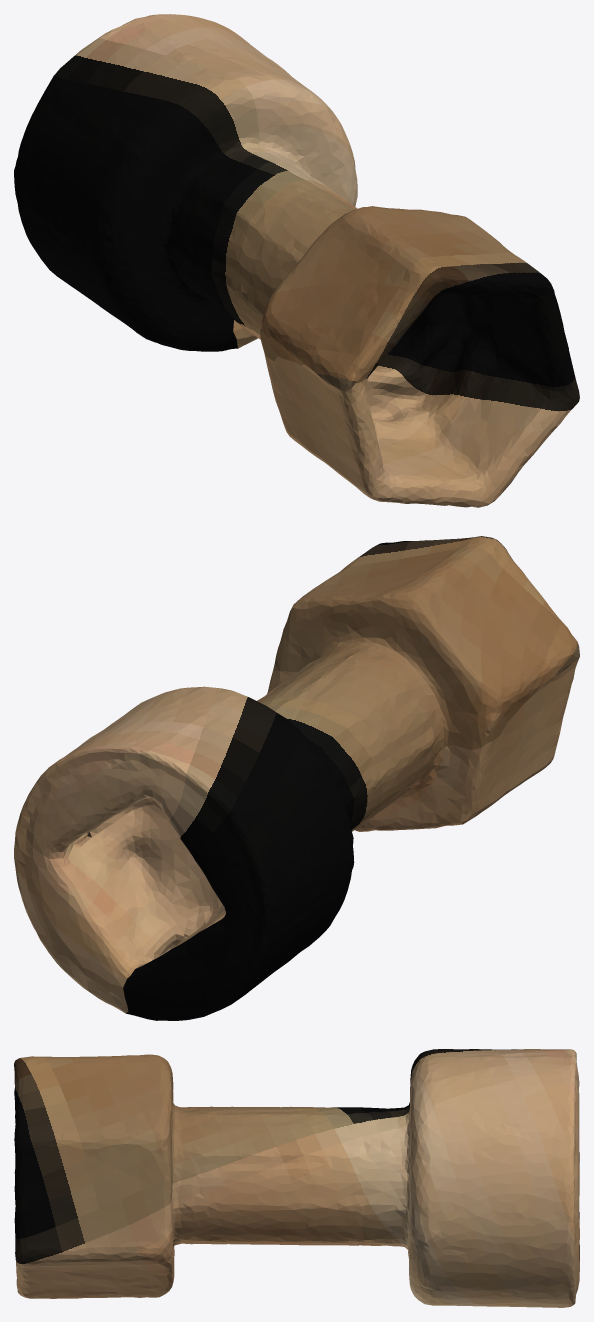
3 renders of one model, top to bottom at view 1: azimuth 30°, elevation 25°; view 2: azimuth 150°, elevation 25°; view 3: azimuth 270°, elevation 25°, orthographic. The views are drawn at different scales.
Size of the model in its own units: 0.0307 by 0.0306 by 0.0667.
